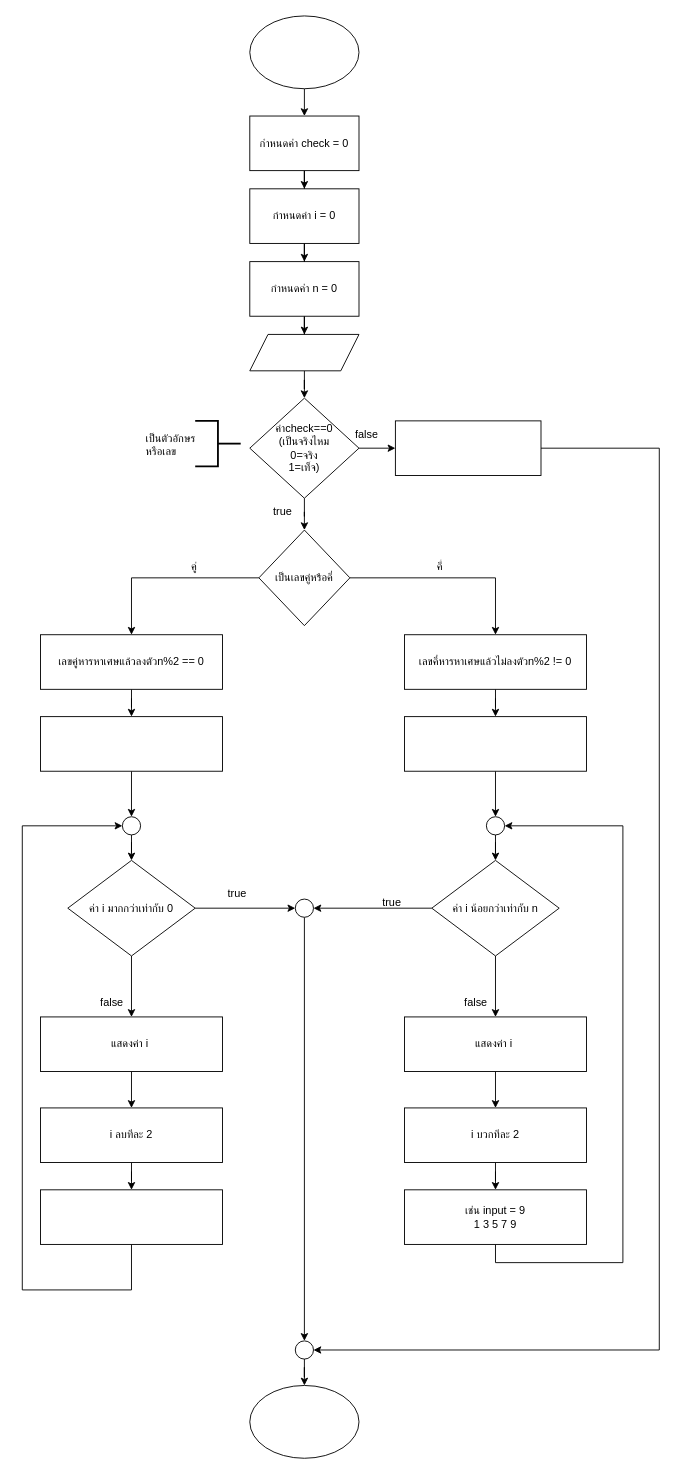
The diagram is 683 pixels wide and 1474 high, and some of its shapes have lost their labels. Each missing label, with the box of its shape:
Start: (249, 15, 359, 89)
Stop: (249, 1385, 359, 1458)
กำหนดค่า i ให้เท่ากับ 1: (404, 716, 586, 771)
กำหนดค่า i ให้เท่ากับ n: (40, 716, 222, 771)
รับค่า n จากผู้ใช้: (249, 334, 359, 371)
เช่น input = 8 8 6 4 2 0: (40, 1189, 222, 1244)
โปรดใส่เฉพาะตัวเลขเท่านั้น: (394, 420, 541, 475)
